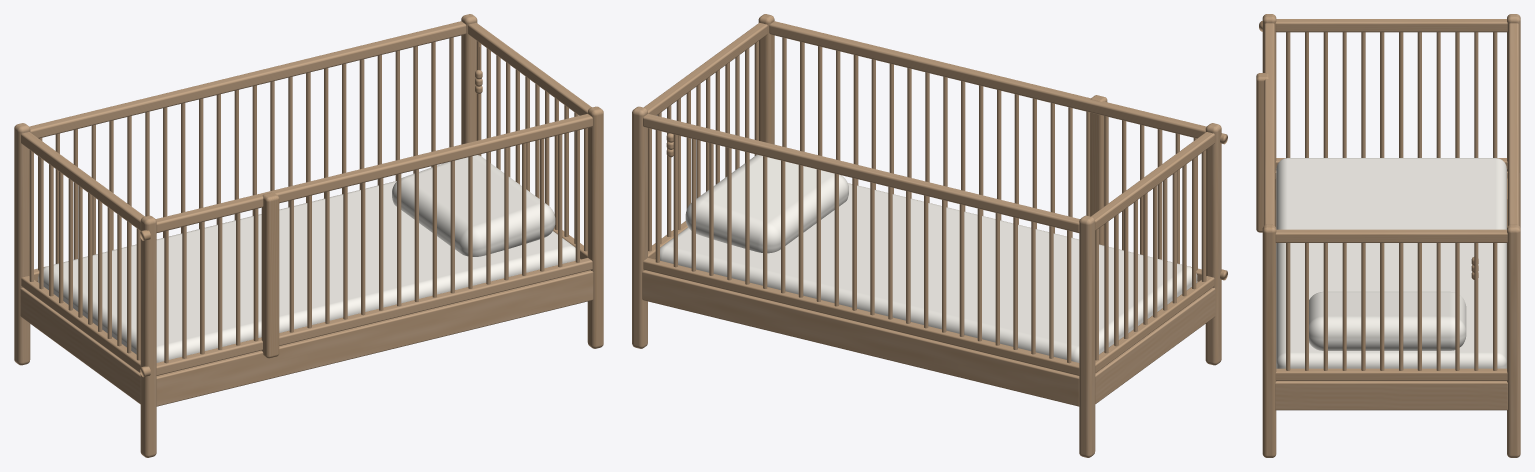
Rendered from oak_baby_bed.glb.
The picture shows the model from 3 angles, left to right: view 1: azimuth 30°, elevation 25°; view 2: azimuth 150°, elevation 25°; view 3: azimuth 270°, elevation 25°; orthographic projection. The views are drawn at different scales.
Parts seen in each view (by area): view 1: Ivory mattress, Long lower apron, Corner post (×4), Long upper guard rail (×2), Ivory pillow, Long lower guard rail, End upper guard rail (×2), End lower apron, Front gate stile, End lower guard rail, Long guard spindle 0.49 05, Long guard spindle -0.49 18 (+35 smaller); view 2: Ivory mattress, Long lower apron, Long upper guard rail (×2), Corner post (×4), Ivory pillow, Long lower guard rail, End upper guard rail (×2), End lower apron, End lower guard rail, Front gate stile, Long guard spindle -0.49 15, Long guard spindle -0.49 06 (+35 smaller); view 3: Ivory mattress, Corner post (×4), Ivory pillow, End lower apron, End upper guard rail (×2), Long upper guard rail (×2), End lower guard rail, Front gate stile, End spindle 1 01, End spindle 1 02, End spindle 1 03, End spindle 1 06 (+20 smaller).
Part boxes in pixels (x1,y1,x2,y2): Ivory mattress: [38, 181, 575, 362]; Long lower apron: [156, 270, 593, 406]; Corner post (×4): [14, 14, 603, 457]; Long upper guard rail (×2): [29, 21, 592, 232]; Ivory pillow: [392, 155, 555, 256]; Long lower guard rail: [156, 258, 592, 375]; End upper guard rail (×2): [21, 23, 591, 230]; End lower apron: [20, 288, 140, 404]; Front gate stile: [261, 192, 279, 358]; End lower guard rail: [21, 276, 140, 373]; Long guard spindle 0.49 05: [253, 208, 258, 341]; Long guard spindle -0.49 18: [359, 59, 364, 189]; Ivory mattress: [660, 183, 1197, 362]; Long lower apron: [642, 270, 1079, 406]; Long upper guard rail (×2): [643, 21, 1206, 232]; Corner post (×4): [632, 14, 1221, 457]; Ivory pillow: [685, 154, 848, 253]; Long lower guard rail: [643, 258, 1079, 375]; End upper guard rail (×2): [644, 22, 1214, 230]; End lower apron: [1095, 287, 1215, 403]; End lower guard rail: [1095, 276, 1214, 372]; Front gate stile: [1090, 95, 1107, 245]; Long guard spindle -0.49 15: [798, 165, 803, 297]; Long guard spindle -0.49 06: [959, 204, 964, 336]; Ivory mattress: [1276, 158, 1506, 368]; Corner post (×4): [1262, 14, 1520, 457]; Ivory pillow: [1309, 291, 1466, 350]; End lower apron: [1275, 381, 1507, 410]; End upper guard rail (×2): [1275, 19, 1507, 242]; Long upper guard rail (×2): [1264, 23, 1518, 225]; End lower guard rail: [1275, 368, 1507, 380]; Front gate stile: [1256, 73, 1268, 232]; End spindle 1 01: [1474, 243, 1478, 370]; End spindle 1 02: [1455, 243, 1459, 370]; End spindle 1 03: [1436, 243, 1440, 370]; End spindle 1 06: [1380, 243, 1384, 370].
Bounding box in the file's own units: 2.07 × 1.02 × 1.06.
